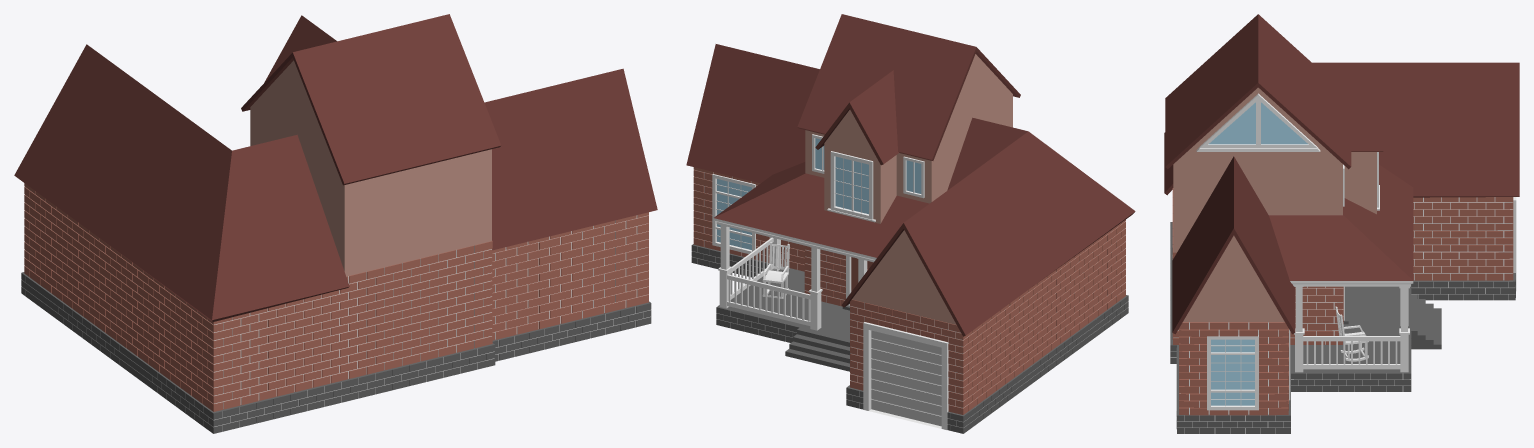
The model's file is house3.glb.
The picture shows the model from 3 angles, left to right: view 1: azimuth 30°, elevation 25°; view 2: azimuth 150°, elevation 25°; view 3: azimuth 270°, elevation 25°; orthographic projection. The views are drawn at different scales.
Parts seen in each view (by area): view 1: building.058; view 2: building.058; view 3: building.058.
Boxes of the visible parts, x1,y1,x2,y2 form: building.058: (14,14,657,433); building.058: (686,14,1135,433); building.058: (1164,14,1519,433).
Bounding box in the file's own units: 13.76 × 9.19 × 10.47.
1 material, 1 textured.
